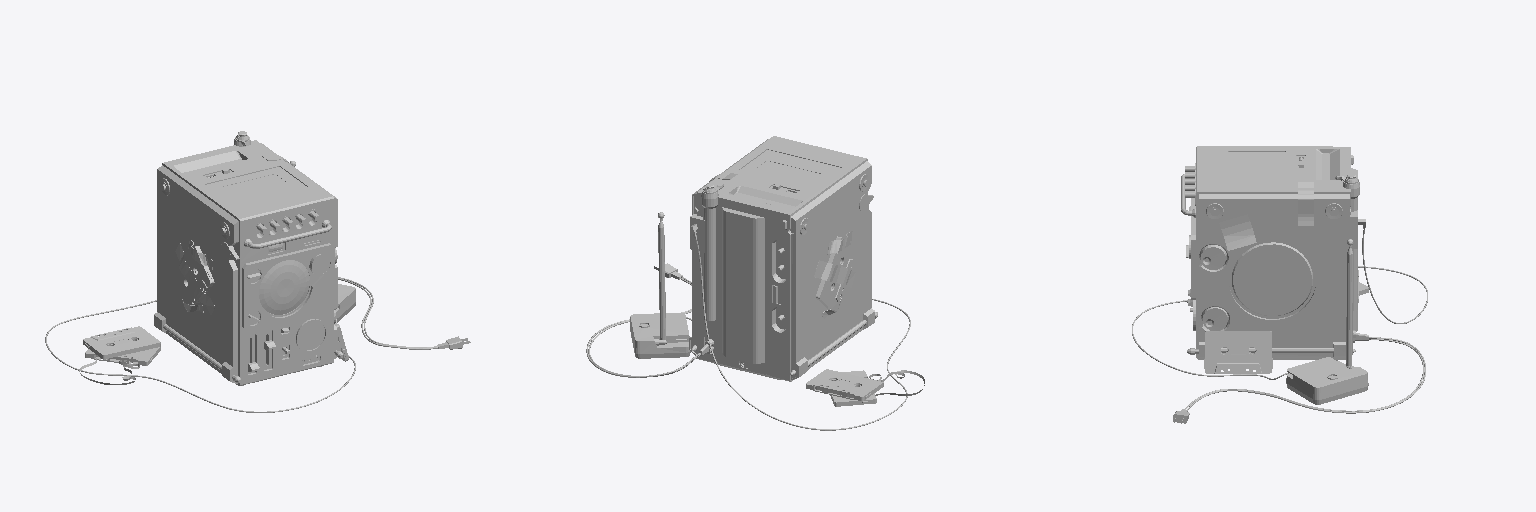
The model's file is low_DEF.obj.
The picture shows the model from 3 angles: view 1: azimuth 30°, elevation 25°; view 2: azimuth 150°, elevation 25°; view 3: azimuth 270°, elevation 25°; orthographic projection.
Size of the model in its own units: 20.29 by 10.89 by 15.98.